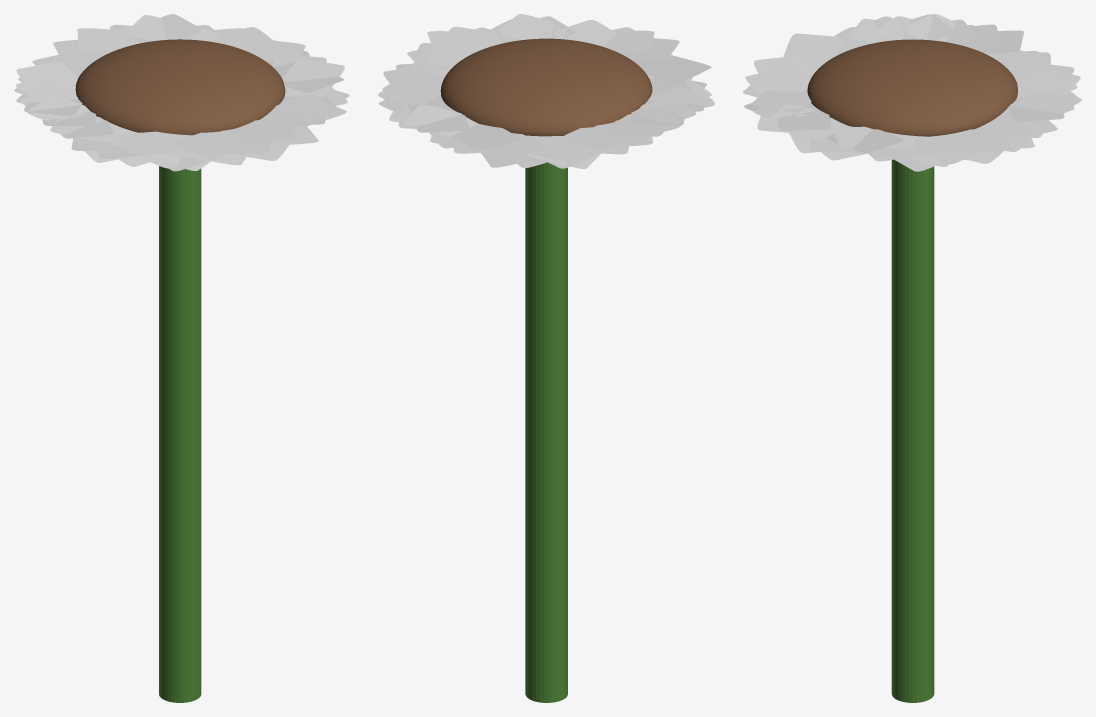
The picture shows the model from 3 angles, left to right: view 1: azimuth 30°, elevation 25°; view 2: azimuth 150°, elevation 25°; view 3: azimuth 270°, elevation 25°; orthographic projection.
Parts seen in each view (by area): view 1: Cylinder, Sphere, Plane.025, Plane.022, Plane, Plane.021, Plane.020, Plane.018, Plane.005, Plane.017, Plane.003, Plane.015 (+10 smaller); view 2: Cylinder, Sphere, Plane, Plane.001, Plane.021, Plane.008, Plane.011, Plane.005, Plane.020, Plane.022, Plane.006, Plane.003 (+10 smaller); view 3: Cylinder, Sphere, Plane, Plane.003, Plane.021, Plane.005, Plane.024, Plane.023, Plane.001, Plane.022, Plane.020, Plane.007 (+13 smaller).
Part boxes in pixels (left/top/right/bottom): Cylinder: left=159, top=166, right=201, bottom=702; Sphere: left=75, top=39, right=285, bottom=135; Plane.025: left=246, top=59, right=344, bottom=160; Plane.022: left=169, top=94, right=337, bottom=171; Plane: left=214, top=27, right=347, bottom=105; Plane.021: left=117, top=126, right=318, bottom=154; Plane.020: left=97, top=117, right=295, bottom=158; Plane.018: left=50, top=113, right=248, bottom=165; Plane.005: left=77, top=28, right=273, bottom=51; Plane.017: left=27, top=95, right=210, bottom=170; Plane.003: left=126, top=15, right=220, bottom=42; Plane.015: left=16, top=73, right=149, bottom=166; Cylinder: left=525, top=162, right=567, bottom=702; Sphere: left=440, top=38, right=652, bottom=136; Plane: left=378, top=27, right=489, bottom=104; Plane.001: left=389, top=26, right=498, bottom=122; Plane.021: left=631, top=55, right=711, bottom=82; Plane.008: left=403, top=104, right=600, bottom=168; Plane.011: left=481, top=107, right=680, bottom=167; Plane.005: left=378, top=93, right=520, bottom=150; Plane.020: left=554, top=20, right=711, bottom=96; Plane.022: left=499, top=14, right=552, bottom=39; Plane.006: left=378, top=99, right=546, bottom=159; Plane.003: left=396, top=64, right=468, bottom=132; Cylinder: left=891, top=159, right=934, bottom=702; Sphere: left=807, top=39, right=1017, bottom=136; Plane: left=810, top=129, right=1009, bottom=152; Plane.003: left=894, top=91, right=1074, bottom=171; Plane.021: left=757, top=33, right=842, bottom=132; Plane.005: left=971, top=67, right=1080, bottom=163; Plane.024: left=745, top=69, right=867, bottom=160; Plane.023: left=754, top=55, right=816, bottom=153; Plane.001: left=832, top=126, right=1034, bottom=148; Plane.022: left=775, top=103, right=830, bottom=130; Plane.020: left=752, top=91, right=811, bottom=112; Plane.007: left=997, top=51, right=1050, bottom=137.
Size of the model in its own units: 0.6332 by 1.31 by 0.6385.
